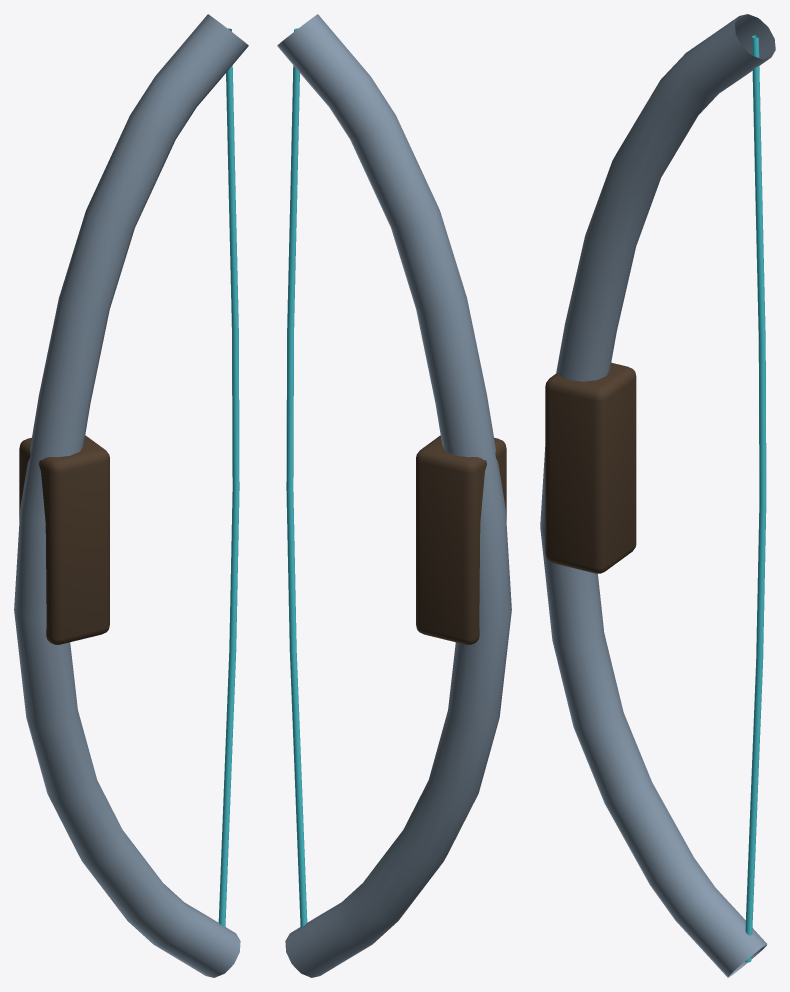
File: bow_v2.glb
3 views of the same model, side by side, from view 1: azimuth 30°, elevation 25°; view 2: azimuth 150°, elevation 25°; view 3: azimuth 330°, elevation 25° (orthographic).
Visible parts, largest first — view 1: RECURVE_BOW_PRIMARY, RECURVE_GRIP_SECONDARY, RECURVE_STRING_ACCENT; view 2: RECURVE_BOW_PRIMARY, RECURVE_GRIP_SECONDARY, RECURVE_STRING_ACCENT; view 3: RECURVE_BOW_PRIMARY, RECURVE_GRIP_SECONDARY, RECURVE_STRING_ACCENT.
Part boxes in pixels (x1,y1,x2,y2): RECURVE_BOW_PRIMARY: (14, 14, 248, 977); RECURVE_GRIP_SECONDARY: (19, 435, 109, 644); RECURVE_STRING_ACCENT: (218, 28, 239, 927); RECURVE_BOW_PRIMARY: (277, 14, 511, 977); RECURVE_GRIP_SECONDARY: (416, 435, 506, 644); RECURVE_STRING_ACCENT: (286, 28, 307, 927); RECURVE_BOW_PRIMARY: (540, 14, 775, 977); RECURVE_GRIP_SECONDARY: (545, 362, 636, 573); RECURVE_STRING_ACCENT: (745, 35, 766, 962).
Size of the model in its own units: 0.9006 by 3.63 by 0.26.
